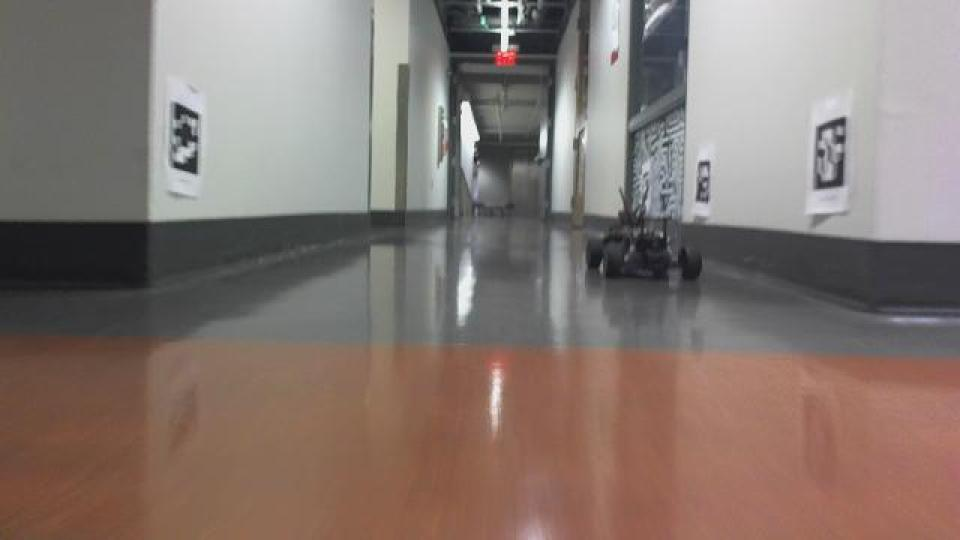car: (581, 210, 705, 285)
